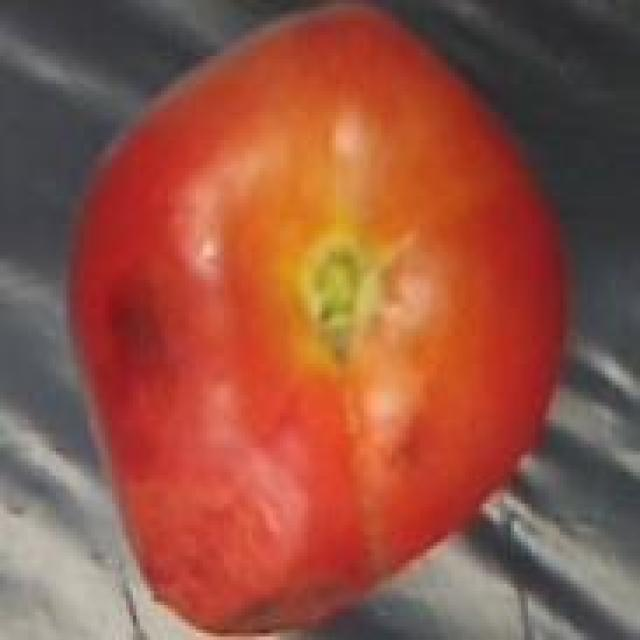overripe tomato: (56, 10, 587, 640)
